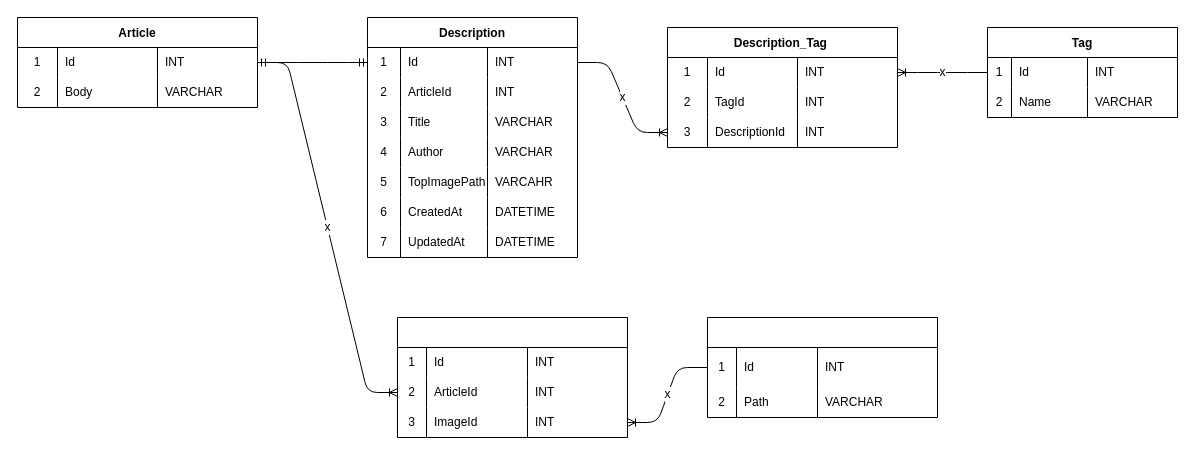
The diagram is 1195 pixels wide and 455 high, and some of its shapes have lost their labels. The box of each missing label's shape, as (x1, y1, x2, y2) in pixels:
Article_Image: (396, 316, 628, 438)
Image: (706, 316, 938, 418)
